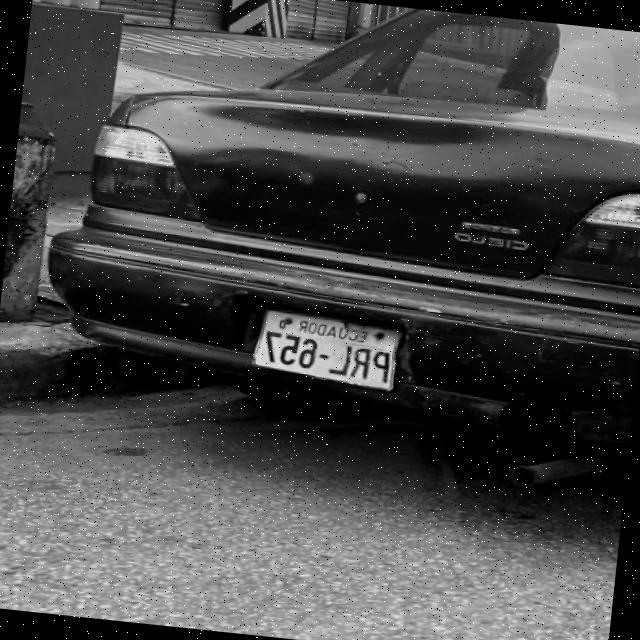Placa: (254, 311, 398, 389)
